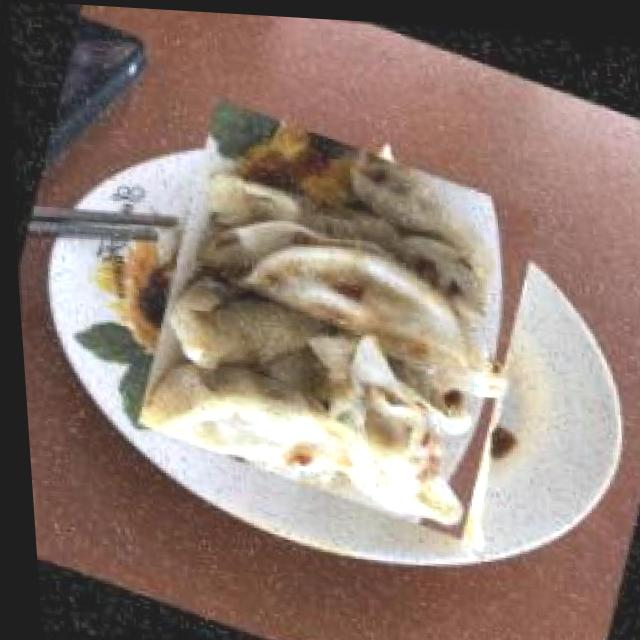fried_dumplings: (109, 90, 565, 540)
